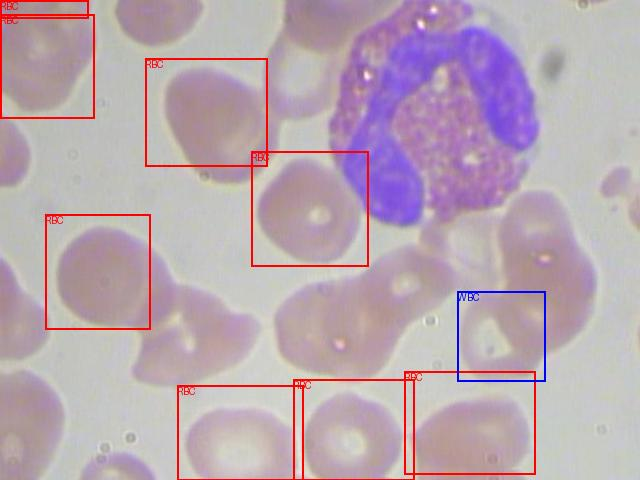RBC: (404, 371, 535, 474), (251, 151, 368, 266), (145, 58, 267, 166), (293, 379, 414, 480), (45, 214, 150, 329), (177, 385, 303, 480), (0, 14, 94, 118), (0, 0, 88, 18)
WBC: (457, 291, 545, 381)
